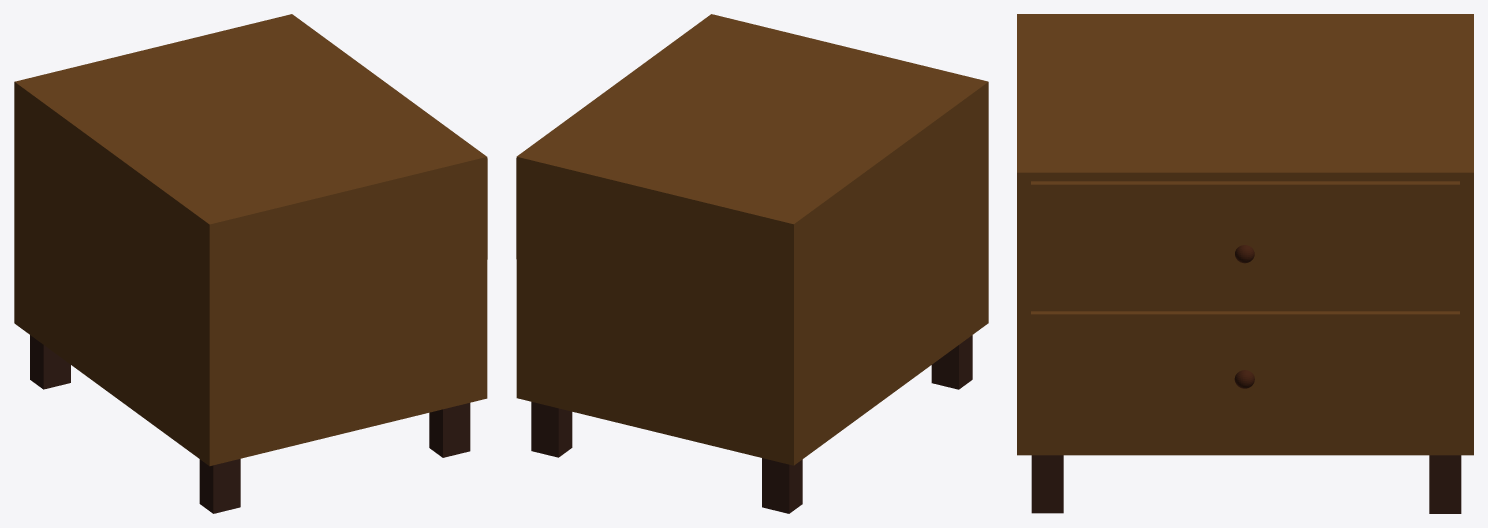
The model's file is Bed side stand.fbx.
3 renders of one model, left to right at view 1: azimuth 30°, elevation 25°; view 2: azimuth 150°, elevation 25°; view 3: azimuth 270°, elevation 25°, orthographic. The views are drawn at different scales.
Visible parts, largest first — view 1: Cube, Cube.002, Cube.001, Cube.003; view 2: Cube, Cube.003, Cube.005, Cube.002; view 3: Cube, Cube.005, Cube.001.
Part boxes in pixels (box(x1,y1,x2,y2)): Cube: box(14, 14, 487, 466); Cube.002: box(199, 459, 240, 513); Cube.001: box(429, 403, 470, 457); Cube.003: box(30, 335, 70, 389); Cube: box(516, 14, 988, 465); Cube.003: box(762, 458, 802, 513); Cube.005: box(531, 402, 572, 457); Cube.002: box(931, 335, 972, 389); Cube: box(1017, 14, 1473, 455); Cube.005: box(1429, 455, 1461, 513); Cube.001: box(1031, 455, 1063, 513).
Bounding box in the file's own units: 528 × 516 × 616.
